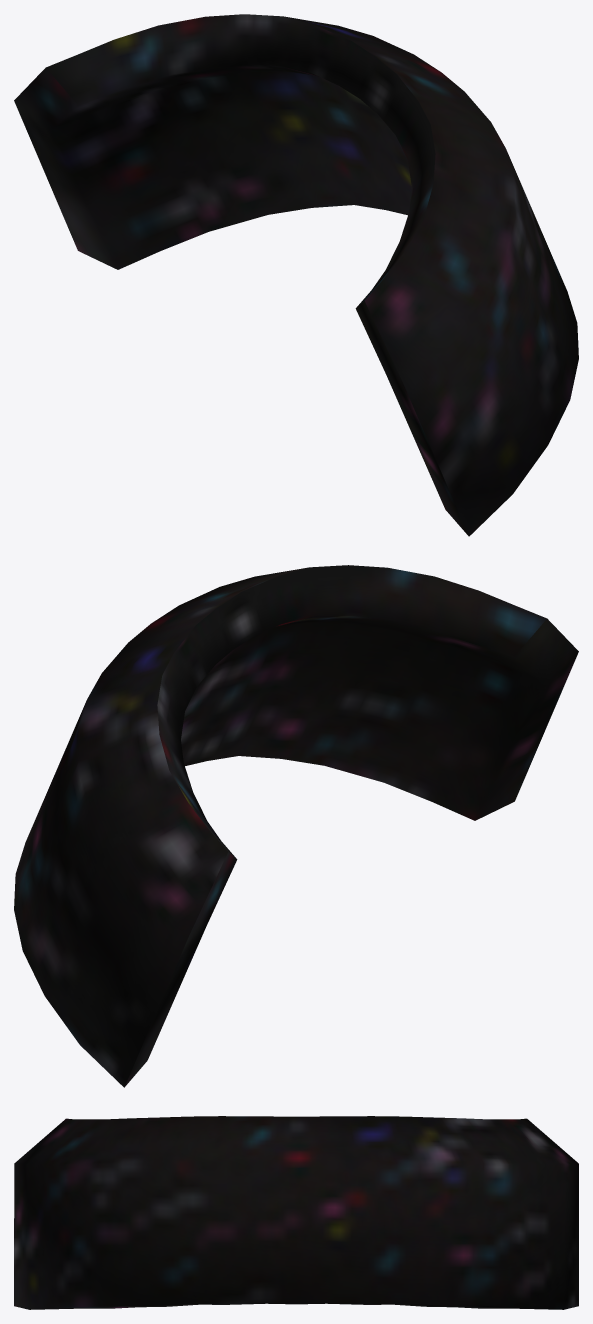
Rendered from sidePlate.fbx.
The picture shows the model from 3 angles, top to bottom: view 1: azimuth 30°, elevation 25°; view 2: azimuth 150°, elevation 25°; view 3: azimuth 270°, elevation 25°; orthographic projection. The views are drawn at different scales.
Visible parts, largest first — view 1: 28_body_0_0.5_25.036; view 2: 28_body_0_0.5_25.036; view 3: 28_body_0_0.5_25.036.
Part boxes in pixels (bbox=[...]): 28_body_0_0.5_25.036: bbox=[14, 14, 578, 536]; 28_body_0_0.5_25.036: bbox=[14, 565, 578, 1087]; 28_body_0_0.5_25.036: bbox=[14, 1116, 578, 1309].
Size of the model in its own units: 56.67 by 56.15 by 127.
